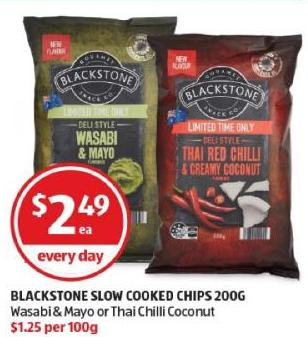description_block: (6, 283, 259, 321)
price_main: (9, 173, 134, 250)
product_image_block: (25, 9, 304, 282)
promo_text_block: (18, 243, 122, 270)
unit_price_block: (3, 314, 103, 337)
